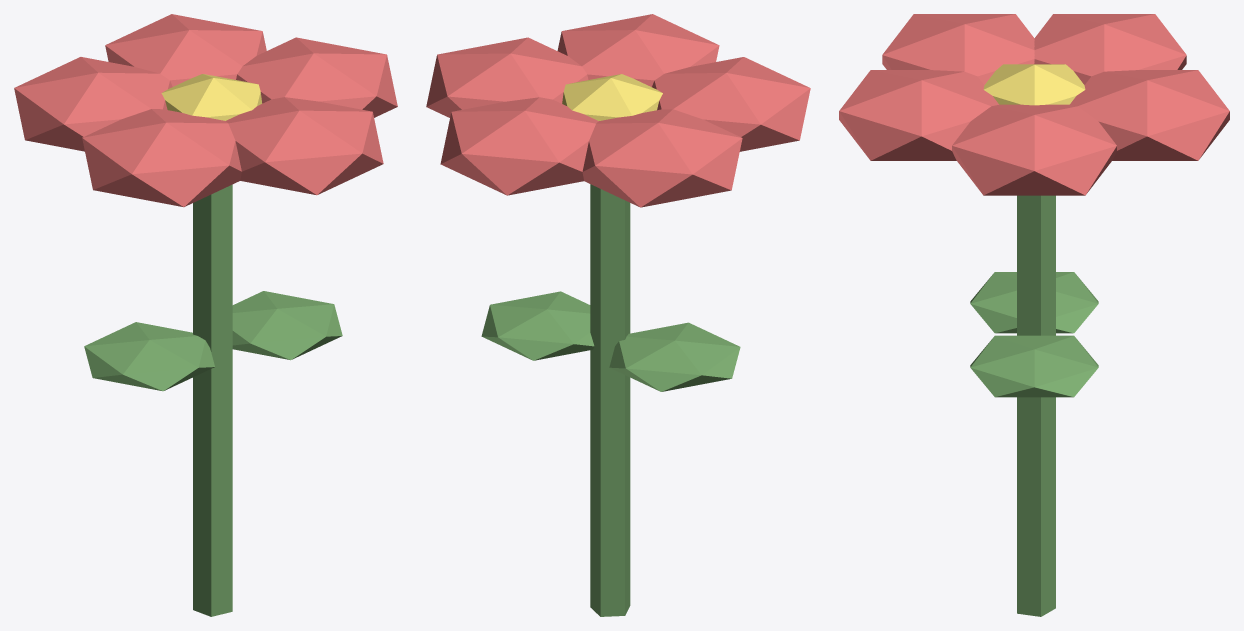
Rendered from fleur_rouge.glb.
The picture shows the model from 3 angles, left to right: view 1: azimuth 30°, elevation 25°; view 2: azimuth 150°, elevation 25°; view 3: azimuth 270°, elevation 25°; orthographic projection. The views are drawn at different scales.
Parts seen in each view (by area): view 1: Cylinder, Icosphere.003, Icosphere.004, Icosphere.002, Icosphere, Icosphere.001, Icosphere.006, Icosphere.007, Icosphere.005; view 2: Cylinder, Icosphere.002, Icosphere.001, Icosphere.003, Icosphere, Icosphere.004, Icosphere.006, Icosphere.007, Icosphere.005; view 3: Cylinder, Icosphere, Icosphere.001, Icosphere.004, Icosphere.002, Icosphere.003, Icosphere.007, Icosphere.006, Icosphere.005.
Boxes of the visible parts, left/top/right/bottom form: Cylinder: left=193, top=184, right=232, bottom=616; Icosphere.003: left=82, top=109, right=241, bottom=207; Icosphere.004: left=226, top=97, right=383, bottom=195; Icosphere.002: left=14, top=57, right=172, bottom=151; Icosphere: left=236, top=37, right=397, bottom=117; Icosphere.001: left=105, top=14, right=266, bottom=86; Icosphere.006: left=84, top=322, right=214, bottom=391; Icosphere.007: left=232, top=291, right=342, bottom=360; Icosphere.005: left=161, top=74, right=262, bottom=120; Cylinder: left=590, top=184, right=630, bottom=616; Icosphere.002: left=582, top=109, right=742, bottom=207; Icosphere.001: left=440, top=97, right=598, bottom=195; Icosphere.003: left=652, top=57, right=810, bottom=151; Icosphere: left=426, top=37, right=588, bottom=117; Icosphere.004: left=557, top=14, right=719, bottom=86; Icosphere.006: left=609, top=322, right=740, bottom=391; Icosphere.007: left=481, top=291, right=594, bottom=360; Icosphere.005: left=562, top=74, right=662, bottom=120; Cylinder: left=1017, top=195, right=1055, bottom=616; Icosphere: left=952, top=104, right=1116, bottom=195; Icosphere.001: left=1070, top=70, right=1229, bottom=160; Icosphere.004: left=839, top=70, right=998, bottom=160; Icosphere.002: left=1034, top=14, right=1186, bottom=84; Icosphere.003: left=882, top=14, right=1034, bottom=84; Icosphere.007: left=970, top=335, right=1098, bottom=397; Icosphere.006: left=970, top=272, right=1098, bottom=333; Icosphere.005: left=983, top=64, right=1085, bottom=105.
Size of the model in its own units: 0.36 by 0.556 by 0.3623.
